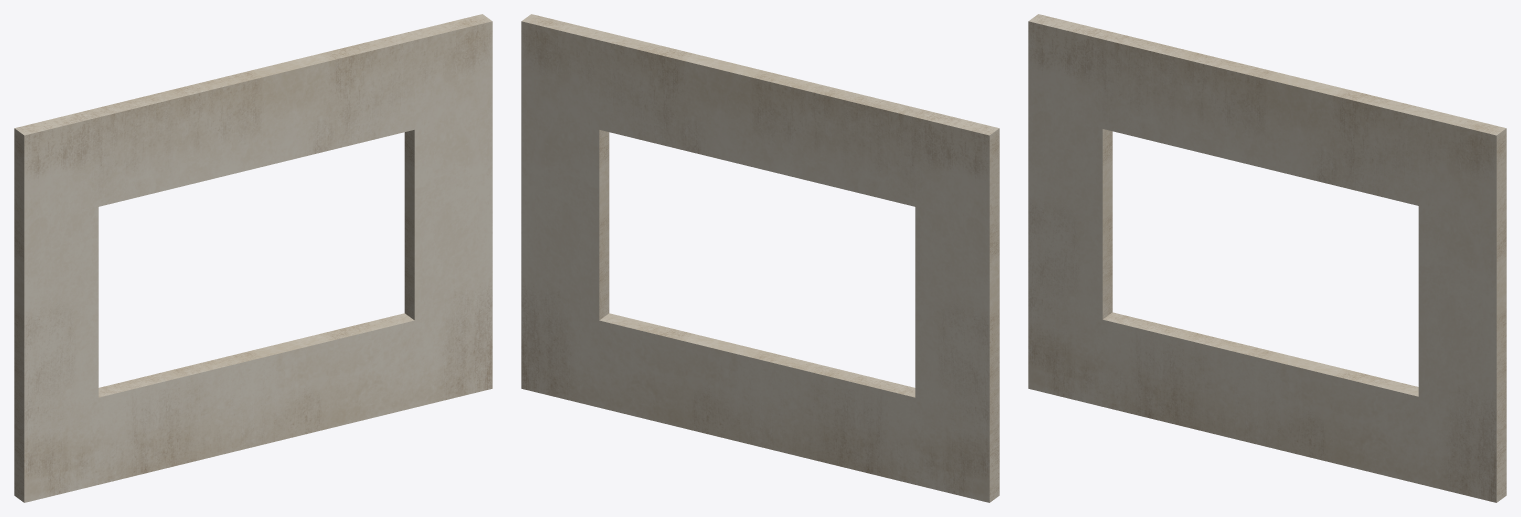
File: MSG_BGLR_Wall_win_01.FBX
3 renders of one model, left to right at view 1: azimuth 30°, elevation 25°; view 2: azimuth 150°, elevation 25°; view 3: azimuth 330°, elevation 25°, orthographic.
Parts seen in each view (by area): view 1: Box102; view 2: Box102; view 3: Box102.
Part boxes in pixels (x1,y1,x2,y2): Box102: (14, 14, 492, 502); Box102: (521, 14, 999, 502); Box102: (1028, 14, 1506, 502).
Bounding box in the file's own units: 1000 × 750 × 36.88.
